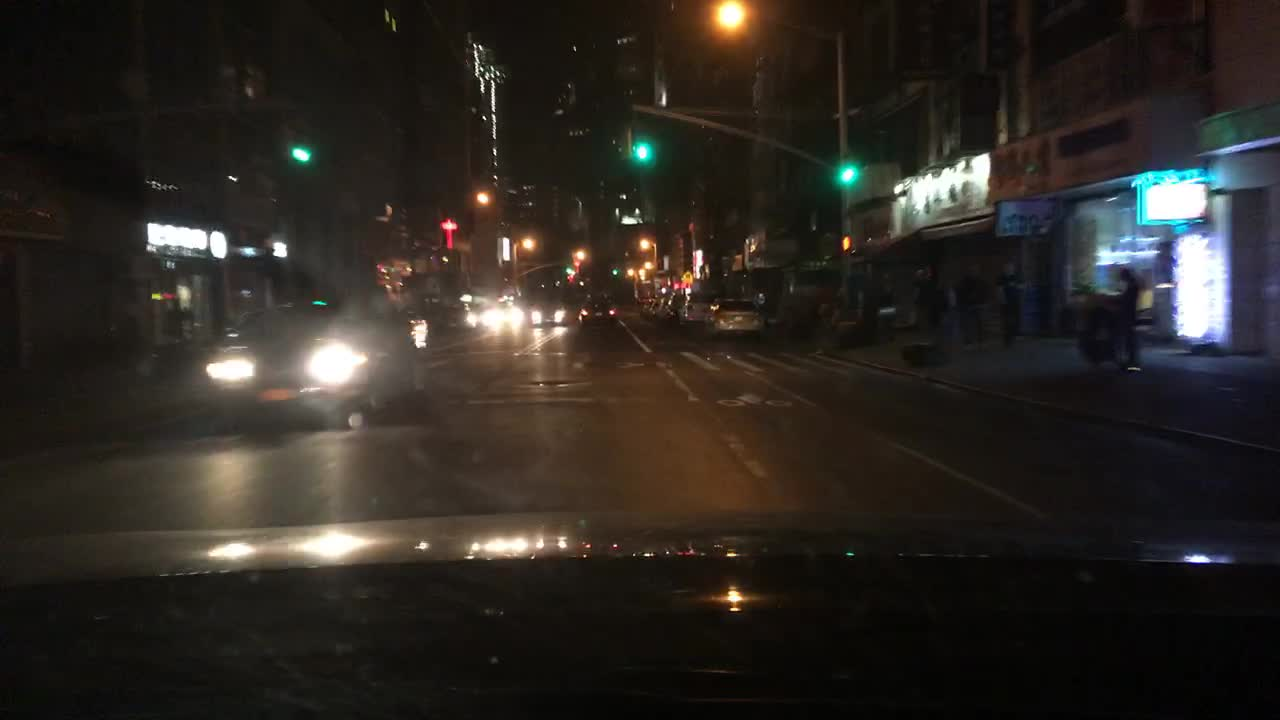car: (206, 304, 423, 425), (702, 295, 766, 336), (373, 312, 427, 347), (675, 288, 720, 329), (479, 300, 525, 332), (530, 293, 567, 331), (577, 297, 617, 331), (438, 302, 479, 332), (658, 293, 685, 324), (651, 293, 668, 317), (636, 300, 653, 314)
motor: (1066, 285, 1159, 368)
person: (1108, 266, 1149, 374), (992, 255, 1031, 349), (953, 258, 989, 351), (911, 260, 946, 339), (874, 263, 903, 339)
traffic light: (288, 110, 314, 164), (629, 118, 653, 164), (835, 152, 859, 185), (838, 233, 855, 255), (563, 260, 572, 275), (612, 260, 618, 275)
traffic sign: (678, 268, 693, 285)
